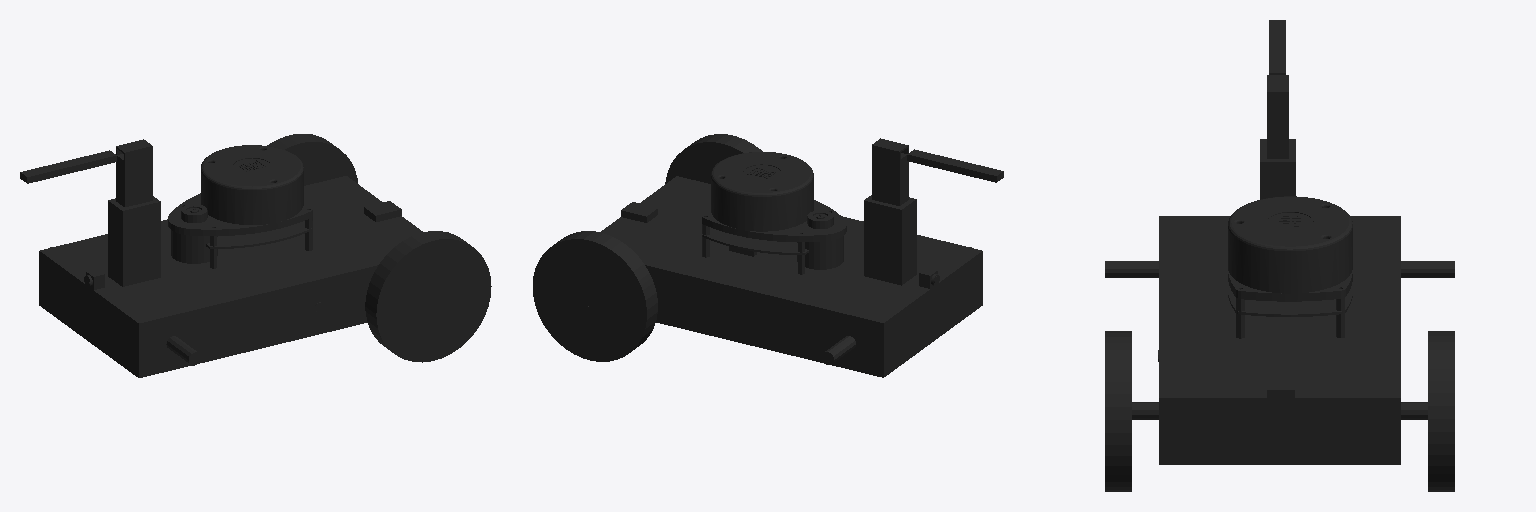
URDF robot description (abcd):
<?xml version="1.0" encoding="utf-8"?>
<!-- This URDF was automatically created by SolidWorks to URDF Exporter! Originally created by [author] ([email redacted]) 
     Commit Version: 1.6.0-4-g7f85cfe  Build Version: 1.6.7995.38578
     For more information, please see http://wiki.ros.org/sw_urdf_exporter -->
<robot
  name="abcd">
  <link
    name="base_link">
    <inertial>
      <origin
        xyz="-0.00134563507978511 -2.02581921593115E-05 0.0212281613916468"
        rpy="0 0 0" />
      <mass
        value="9.79985997865253" />
      <inertia
        ixx="0.0164140264972666"
        ixy="2.86811488996906E-07"
        ixz="-1.5067102447872E-06"
        iyy="0.0480735946553678"
        iyz="-2.16128335468346E-08"
        izz="0.0617116986752876" />
    </inertial>
    <visual>
      <origin
        xyz="0 0 0"
        rpy="0 0 0" />
      <geometry>
        <mesh
          filename="package://abcd/meshes/base_link.STL" />
      </geometry>
      <material
        name="">
        <color
          rgba="0.2 0.2 0.2 1" />
      </material>
    </visual>
    <collision>
      <origin
        xyz="0 0 0"
        rpy="0 0 0" />
      <geometry>
        <mesh
          filename="package://abcd/meshes/base_link.STL" />
      </geometry>
    </collision>
  </link>
  <link
    name="camera_Link">
    <inertial>
      <origin
        xyz="-4.55330217974392E-14 0 -0.00599202985851255"
        rpy="0 0 0" />
      <mass
        value="0.00728059546505731" />
      <inertia
        ixx="1.23208431153556E-07"
        ixy="9.28154432510641E-24"
        ixz="-5.7832508426874E-23"
        iyy="1.23208431153556E-07"
        iyz="-4.69457027318134E-23"
        izz="1.14807020557045E-07" />
    </inertial>
    <visual>
      <origin
        xyz="0 0 0"
        rpy="0 0 0" />
      <geometry>
        <mesh
          filename="package://abcd/meshes/camera_Link.STL" />
      </geometry>
      <material
        name="">
        <color
          rgba="0.2 0.2 0.2 1" />
      </material>
    </visual>
    <collision>
      <origin
        xyz="0 0 0"
        rpy="0 0 0" />
      <geometry>
        <mesh
          filename="package://abcd/meshes/camera_Link.STL" />
      </geometry>
    </collision>
  </link>
  <joint
    name="camera_joint"
    type="prismatic">
    <origin
      xyz="-0.12225 -0.0010282 0.046"
      rpy="1.5708 0 -1.5708" />
    <parent
      link="base_link" />
    <child
      link="camera_Link" />
    <axis
      xyz="1 0 0" />
    <limit
      lower="0"
      upper="0"
      effort="0"
      velocity="0" />
  </joint>
  <link
    name="lidar_Link">
    <inertial>
      <origin
        xyz="0.000153907989378407 0.00676797122098363 -0.0224318722671598"
        rpy="0 0 0" />
      <mass
        value="1.22840227972681" />
      <inertia
        ixx="0.000886765481793313"
        ixy="3.28322371554214E-06"
        ixz="1.68989093208162E-06"
        iyy="0.000567648619195593"
        iyz="0.000146088586939935"
        izz="0.00101367876948125" />
    </inertial>
    <visual>
      <origin
        xyz="0 0 0"
        rpy="0 0 0" />
      <geometry>
        <mesh
          filename="package://abcd/meshes/lidar_Link.STL" />
      </geometry>
      <material
        name="">
        <color
          rgba="0.2 0.2 0.2 1" />
      </material>
    </visual>
    <collision>
      <origin
        xyz="0 0 0"
        rpy="0 0 0" />
      <geometry>
        <mesh
          filename="package://abcd/meshes/lidar_Link.STL" />
      </geometry>
    </collision>
  </link>
  <joint
    name="lidar_joint"
    type="fixed">
    <origin
      xyz="0.010786 0.0056943 0.0987"
      rpy="0 0 1.5708" />
    <parent
      link="base_link" />
    <child
      link="lidar_Link" />
    <axis
      xyz="0 0 0" />
  </joint>
  <link
    name="left1_wheel_Link">
    <inertial>
      <origin
        xyz="-1.38777878078145E-17 -2.77555756156289E-17 8.67361737988404E-19"
        rpy="0 0 0" />
      <mass
        value="0.678584013175395" />
      <inertia
        ixx="0.000360497756999429"
        ixy="-8.09870282623048E-40"
        ixz="1.17025383189539E-18"
        iyy="0.000360497756999429"
        iyz="-4.5364235985708E-37"
        izz="0.00069554861350478" />
    </inertial>
    <visual>
      <origin
        xyz="0 0 0"
        rpy="0 0 0" />
      <geometry>
        <mesh
          filename="package://abcd/meshes/left1_wheel_Link.STL" />
      </geometry>
      <material
        name="">
        <color
          rgba="0.2 0.2 0.2 1" />
      </material>
    </visual>
    <collision>
      <origin
        xyz="0 0 0"
        rpy="0 0 0" />
      <geometry>
        <mesh
          filename="package://abcd/meshes/left1_wheel_Link.STL" />
      </geometry>
    </collision>
  </link>
  <joint
    name="left1_wheel_link_joint"
    type="continuous">
    <origin
      xyz="-0.093647 -0.090012 0.0205"
      rpy="1.5708 0 3.1416" />
    <parent
      link="base_link" />
    <child
      link="left1_wheel_Link" />
    <axis
      xyz="0 0 -1" />
  </joint>
  <link
    name="left2_wheel_Link">
    <inertial>
      <origin
        xyz="0 0 1.73472347597681E-18"
        rpy="0 0 0" />
      <mass
        value="0.678584013175395" />
      <inertia
        ixx="0.000360497756999429"
        ixy="-8.09870282623048E-40"
        ixz="1.17030147749868E-18"
        iyy="0.000360497756999429"
        iyz="-4.5364235985708E-37"
        izz="0.00069554861350478" />
    </inertial>
    <visual>
      <origin
        xyz="0 0 0"
        rpy="0 0 0" />
      <geometry>
        <mesh
          filename="package://abcd/meshes/left2_wheel_Link.STL" />
      </geometry>
      <material
        name="">
        <color
          rgba="0.2 0.2 0.2 1" />
      </material>
    </visual>
    <collision>
      <origin
        xyz="0 0 0"
        rpy="0 0 0" />
      <geometry>
        <mesh
          filename="package://abcd/meshes/left2_wheel_Link.STL" />
      </geometry>
    </collision>
  </link>
  <joint
    name="left2_wheel_link_joint"
    type="continuous">
    <origin
      xyz="0.093219 -0.090012 0.0205"
      rpy="1.5708 0 3.1416" />
    <parent
      link="base_link" />
    <child
      link="left2_wheel_Link" />
    <axis
      xyz="0 0 -1" />
  </joint>
  <link
    name="right1_wheel_Link">
    <inertial>
      <origin
        xyz="0 0 2.77555756156289E-17"
        rpy="0 0 0" />
      <mass
        value="0.678584013175396" />
      <inertia
        ixx="0.000360497756999429"
        ixy="-8.09870282622094E-40"
        ixz="1.16725215888856E-18"
        iyy="0.000360497756999429"
        iyz="-4.53642359857081E-37"
        izz="0.000695548613504781" />
    </inertial>
    <visual>
      <origin
        xyz="0 0 0"
        rpy="0 0 0" />
      <geometry>
        <mesh
          filename="package://abcd/meshes/right1_wheel_Link.STL" />
      </geometry>
      <material
        name="">
        <color
          rgba="0.2 0.2 0.2 1" />
      </material>
    </visual>
    <collision>
      <origin
        xyz="0 0 0"
        rpy="0 0 0" />
      <geometry>
        <mesh
          filename="package://abcd/meshes/right1_wheel_Link.STL" />
      </geometry>
    </collision>
  </link>
  <joint
    name="right1_wheel_link_joint"
    type="continuous">
    <origin
      xyz="-0.093645 0.090012 0.0205"
      rpy="1.5708 0 3.1416" />
    <parent
      link="base_link" />
    <child
      link="right1_wheel_Link" />
    <axis
      xyz="0 0 1" />
  </joint>
  <link
    name="right2_wheel_Link">
    <inertial>
      <origin
        xyz="0 1.38777878078145E-17 -2.77555756156289E-17"
        rpy="0 0 0" />
      <mass
        value="0.678584013175395" />
      <inertia
        ixx="0.000360497756999428"
        ixy="-1.55490309620423E-21"
        ixz="-6.28921963336042E-21"
        iyy="0.000360497756999428"
        iyz="-4.64544632009739E-21"
        izz="0.000695548613504779" />
    </inertial>
    <visual>
      <origin
        xyz="0 0 0"
        rpy="0 0 0" />
      <geometry>
        <mesh
          filename="package://abcd/meshes/right2_wheel_Link.STL" />
      </geometry>
      <material
        name="">
        <color
          rgba="0.2 0.2 0.2 1" />
      </material>
    </visual>
    <collision>
      <origin
        xyz="0 0 0"
        rpy="0 0 0" />
      <geometry>
        <mesh
          filename="package://abcd/meshes/right2_wheel_Link.STL" />
      </geometry>
    </collision>
  </link>
  <joint
    name="right2_wheel_link_joint"
    type="continuous">
    <origin
      xyz="0.093215 0.090012 0.0205"
      rpy="1.5708 0 3.1416" />
    <parent
      link="base_link" />
    <child
      link="right2_wheel_Link" />
    <axis
      xyz="0 0 1" />
  </joint>
  <link
    name="tay1_Link">
    <inertial>
      <origin
        xyz="-9.65325780630244E-07 -0.000173956262423419 0.0112941437857941"
        rpy="0 0 0" />
      <mass
        value="0.1032156" />
      <inertia
        ixx="3.02416803606903E-05"
        ixy="3.66060803139861E-10"
        ixz="2.5851798711052E-09"
        iyy="2.72954578390213E-05"
        iyz="4.65861615945074E-07"
        izz="5.46934910894736E-06" />
    </inertial>
    <visual>
      <origin
        xyz="0 0 0"
        rpy="0 0 0" />
      <geometry>
        <mesh
          filename="package://abcd/meshes/tay1_Link.STL" />
      </geometry>
      <material
        name="">
        <color
          rgba="0.2 0.2 0.2 1" />
      </material>
    </visual>
    <collision>
      <origin
        xyz="0 0 0"
        rpy="0 0 0" />
      <geometry>
        <mesh
          filename="package://abcd/meshes/tay1_Link.STL" />
      </geometry>
    </collision>
  </link>
  <joint
    name="tay1_joint"
    type="prismatic">
    <origin
      xyz="-0.085478 -0.0012271 0.0978"
      rpy="0 0 1.5708" />
    <parent
      link="base_link" />
    <child
      link="tay1_Link" />
    <axis
      xyz="0 0 -1" />
    <limit
      lower="0"
      upper="0"
      effort="0"
      velocity="0" />
  </joint>
  <link
    name="tay2_Link">
    <inertial>
      <origin
        xyz="0 6.13398221105399E-15 -0.0350000000000032"
        rpy="0 0 0" />
      <mass
        value="0.02394" />
      <inertia
        ixx="9.825375E-06"
        ixy="9.35713789238634E-24"
        ixz="-2.96504188459818E-23"
        iyy="9.95554875E-06"
        iyz="2.59149846794491E-21"
        izz="2.2992375E-07" />
    </inertial>
    <visual>
      <origin
        xyz="0 0 0"
        rpy="0 0 0" />
      <geometry>
        <mesh
          filename="package://abcd/meshes/tay2_Link.STL" />
      </geometry>
      <material
        name="">
        <color
          rgba="0.2 0.2 0.2 1" />
      </material>
    </visual>
    <collision>
      <origin
        xyz="0 0 0"
        rpy="0 0 0" />
      <geometry>
        <mesh
          filename="package://abcd/meshes/tay2_Link.STL" />
      </geometry>
    </collision>
  </link>
  <joint
    name="tay2_joint"
    type="prismatic">
    <origin
      xyz="1.9422E-05 0.086269 0.03724"
      rpy="1.5708 0 3.1416" />
    <parent
      link="tay1_Link" />
    <child
      link="tay2_Link" />
    <axis
      xyz="0 0 -1" />
    <limit
      lower="0"
      upper="0"
      effort="0"
      velocity="0" />
  </joint>
  <link
    name="imu_Link">
    <inertial>
      <origin
        xyz="1.38777878078145E-17 0 -0.00249999999999803"
        rpy="0 0 0" />
      <mass
        value="0.0116509328220928" />
      <inertia
        ixx="4.25569323350397E-07"
        ixy="6.48329308695075E-24"
        ixz="2.33995328475761E-24"
        iyy="2.70315132514325E-07"
        iyz="-1.57508292967511E-21"
        izz="6.47338902439336E-07" />
    </inertial>
    <visual>
      <origin
        xyz="0 0 0"
        rpy="0 0 0" />
      <geometry>
        <mesh
          filename="package://abcd/meshes/imu_Link.STL" />
      </geometry>
      <material
        name="">
        <color
          rgba="0.2 0.2 0.2 1" />
      </material>
    </visual>
    <collision>
      <origin
        xyz="0 0 0"
        rpy="0 0 0" />
      <geometry>
        <mesh
          filename="package://abcd/meshes/imu_Link.STL" />
      </geometry>
    </collision>
  </link>
  <joint
    name="imu"
    type="prismatic">
    <origin
      xyz="0.10998 0.00067806 0.046"
      rpy="0 0 1.5708" />
    <parent
      link="base_link" />
    <child
      link="imu_Link" />
    <axis
      xyz="1 0 0" />
    <limit
      lower="0"
      upper="0"
      effort="0"
      velocity="0" />
  </joint>






  <gazebo reference="lidar_Link">
   <sensor type="ray" name="lidar_sensor">
     <pose>0 0 0 0 0 0</pose>
     <visualize>true</visualize>
     <update_rate>30</update_rate>
     <ray>
    <scan>
      <horizontal>
        <samples>720</samples>
        <resolution>1</resolution>
        <min_angle>-1.5708</min_angle>
        <max_angle>1.5708</max_angle>
      </horizontal>
    </scan>
    <range>
      <min>0.1</min>
      <max>30.0</max>
      <resolution>0.01</resolution>
    </range>
    <noise>
      <type>gaussian</type>
      <mean>0.0</mean>
      <stddev>0.01</stddev>
    </noise>
     </ray>
     <plugin name="gazebo_ros_laser" filename="libgazebo_ros_laser.so">
    <topicName>/scan</topicName>
    <frameName>lidar_Link</frameName>
     </plugin>
   </sensor>
  </gazebo>
   

    <gazebo reference="imu_Link">
    <gravity>true</gravity>
    <sensor name="imu_sensor" type="imu">
      <always_on>true</always_on>
      <update_rate>100</update_rate>
      <visualize>true</visualize>
      <topic>__default_topic__</topic>
      <plugin filename="libgazebo_ros_imu_sensor.so" name="imu_plugin">
        <topicName>imu</topicName>
        <bodyName>imu_Link</bodyName>
        <updateRateHZ>10.0</updateRateHZ>
        <gaussianNoise>0.0</gaussianNoise>
        <xyzOffset>0 0 0</xyzOffset>
        <rpyOffset>0 0 0</rpyOffset>
        <frameName>imu_Link</frameName>
        <initialOrientationAsReference>false</initialOrientationAsReference>
      </plugin>
      <pose>0 0 0 0 0 0</pose>
    </sensor>
  </gazebo>

<!-- camera -->
  <gazebo reference="camera_Link">
    <sensor type="camera" name="camera1">
      <update_rate>30.0</update_rate>
      <camera name="head">
        <horizontal_fov>1.3962634</horizontal_fov>
        <image>
          <width>800</width>
          <height>800</height>
          <format>R8G8B8</format>
        </image>
        <clip>
          <near>0.02</near>
          <far>300</far>
        </clip>
        <noise>
          <type>gaussian</type>
          <!-- Noise is sampled independently per pixel on each frame.
               That pixel's noise value is added to each of its color
               channels, which at that point lie in the range [0,1]. -->
          <mean>0.0</mean>
          <stddev>0.007</stddev>
        </noise>
      </camera>
      <plugin name="camera_controller" filename="libgazebo_ros_camera.so">
        <alwaysOn>true</alwaysOn>
        <updateRate>0.0</updateRate>
        <cameraName>rrbot/camera1</cameraName>
        <imageTopicName>image_raw</imageTopicName>
        <cameraInfoTopicName>camera_info</cameraInfoTopicName>
        <frameName>camera_Link</frameName>
        <hackBaseline>0.07</hackBaseline>
        <distortionK1>0.0</distortionK1>
        <distortionK2>0.0</distortionK2>
        <distortionK3>0.0</distortionK3>
        <distortionT1>0.0</distortionT1>
        <distortionT2>0.0</distortionT2>
      </plugin>
    </sensor>
  </gazebo>


 


</robot>

--- Facts derived from the render (not from the file) ---
3 views of the same robot in one strip: view 1: azimuth 30°, elevation 25°; view 2: azimuth 150°, elevation 25°; view 3: azimuth 270°, elevation 25° (orthographic).
Model abcd with 10 links and 9 joints (4 continuous, 4 prismatic, 1 fixed), rooted at base_link, posed all joints at 0.
Visible links, largest first — view 1: base_link, left2_wheel_Link, lidar_Link, right2_wheel_Link, tay1_Link, tay2_Link, imu_Link; view 2: base_link, right2_wheel_Link, lidar_Link, left2_wheel_Link, tay1_Link, tay2_Link, imu_Link; view 3: base_link, lidar_Link, left2_wheel_Link, right2_wheel_Link, tay1_Link, tay2_Link, imu_Link.
Boxes of the visible links, left/top/right/bottom form: base_link: left=39, top=176, right=439, bottom=377; left2_wheel_Link: left=365, top=231, right=491, bottom=362; lidar_Link: left=168, top=145, right=312, bottom=268; right2_wheel_Link: left=267, top=134, right=357, bottom=185; tay1_Link: left=116, top=139, right=152, bottom=206; tay2_Link: left=20, top=150, right=116, bottom=183; imu_Link: left=364, top=201, right=401, bottom=221; base_link: left=584, top=176, right=982, bottom=377; right2_wheel_Link: left=533, top=231, right=657, bottom=361; lidar_Link: left=702, top=152, right=846, bottom=274; left2_wheel_Link: left=665, top=134, right=762, bottom=183; tay1_Link: left=872, top=138, right=908, bottom=205; tay2_Link: left=907, top=149, right=1003, bottom=182; imu_Link: left=621, top=202, right=657, bottom=222; base_link: left=1105, top=139, right=1454, bottom=464; lidar_Link: left=1228, top=196, right=1352, bottom=338; left2_wheel_Link: left=1105, top=331, right=1131, bottom=491; right2_wheel_Link: left=1428, top=331, right=1454, bottom=491; tay1_Link: left=1267, top=75, right=1288, bottom=158; tay2_Link: left=1269, top=20, right=1285, bottom=74; imu_Link: left=1267, top=375, right=1294, bottom=397.
Bounding box of the posed robot: 0.31 × 0.195 × 0.1633 m (x, y, z).
Meshes: 10 distinct files referenced, 8 mesh visuals loaded (8 binary STL); not drawn: 2 (reference not matched to a file when rendering).
